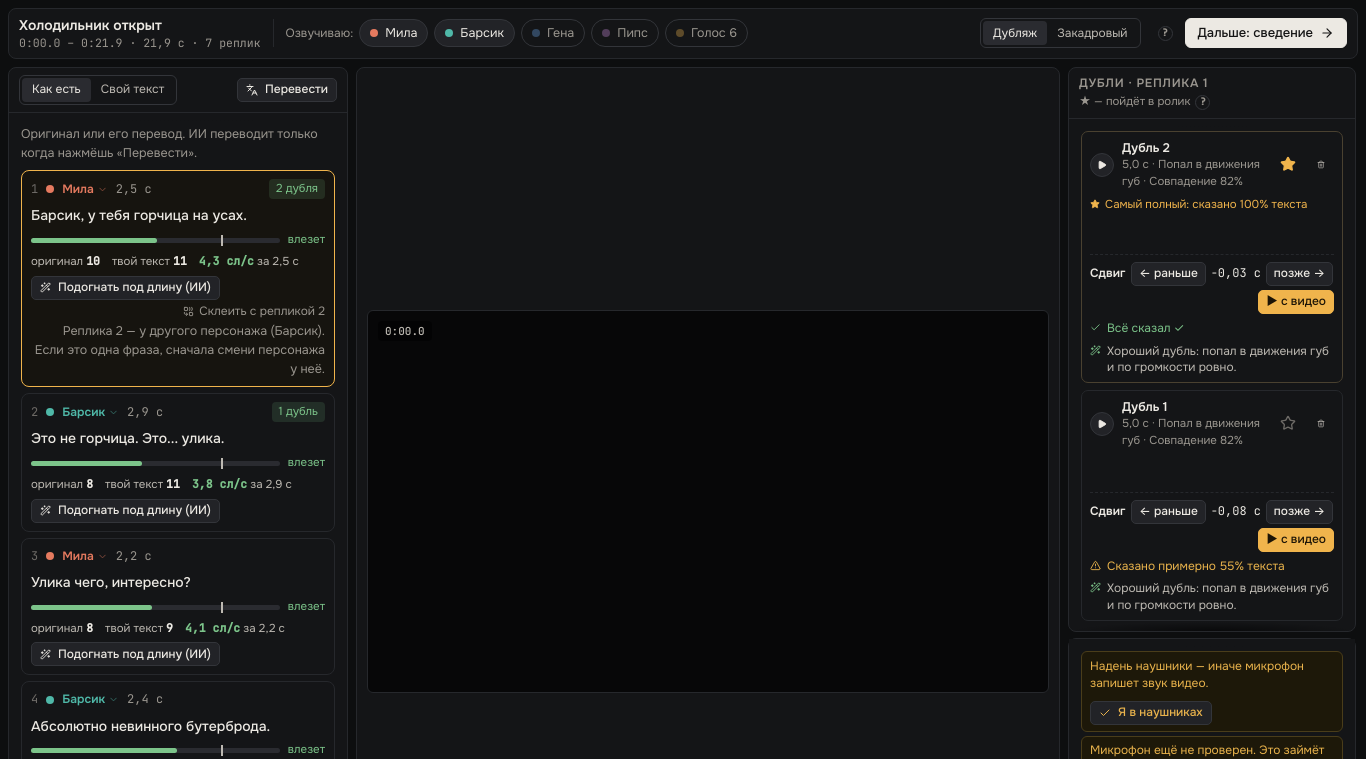
Scenario: меню «Кто это говорит?» › клик по пункту меняет персонажа — вместе с дублями; меню закрывается
Click the button with aria-label "Персонаж реплики 1" at (85, 190), box [58, 180, 112, 199]
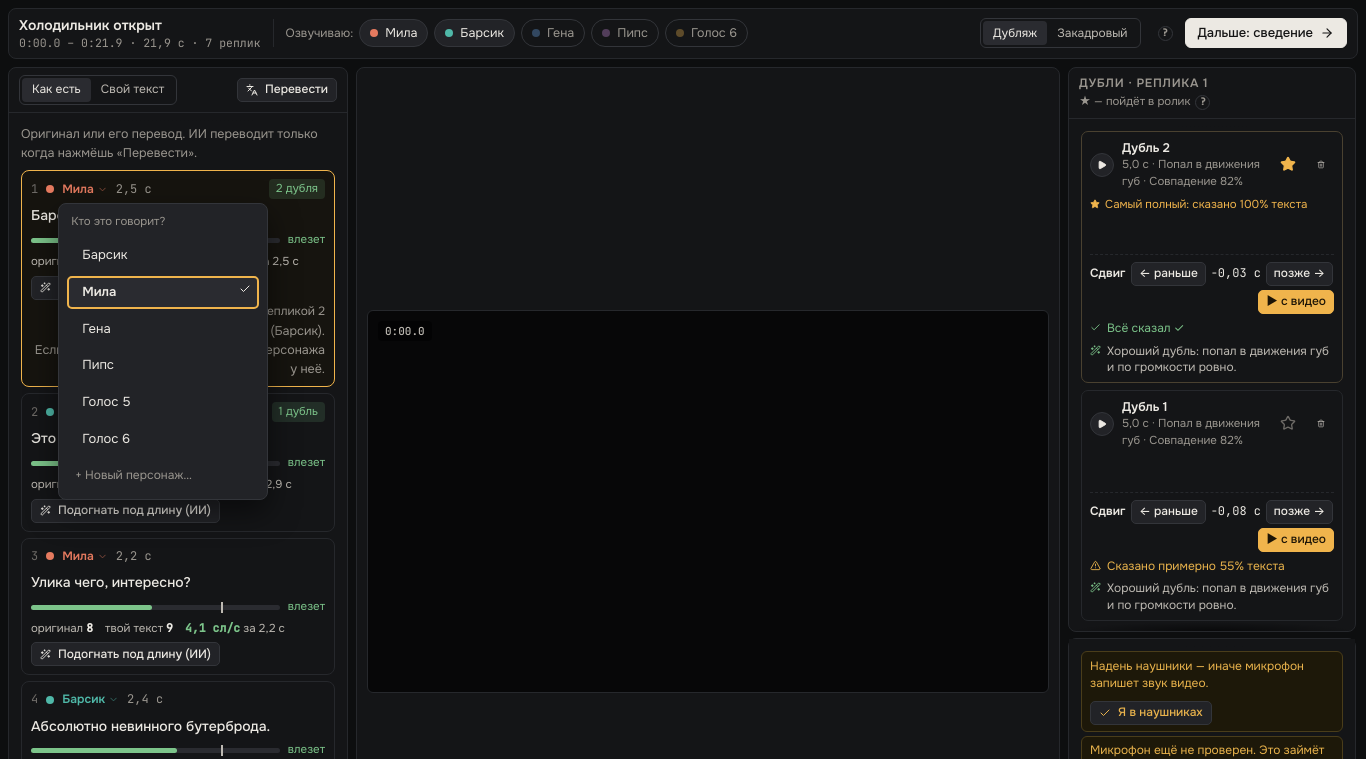
Click the menu item "Барсик" at (163, 255), box [67, 239, 259, 272]
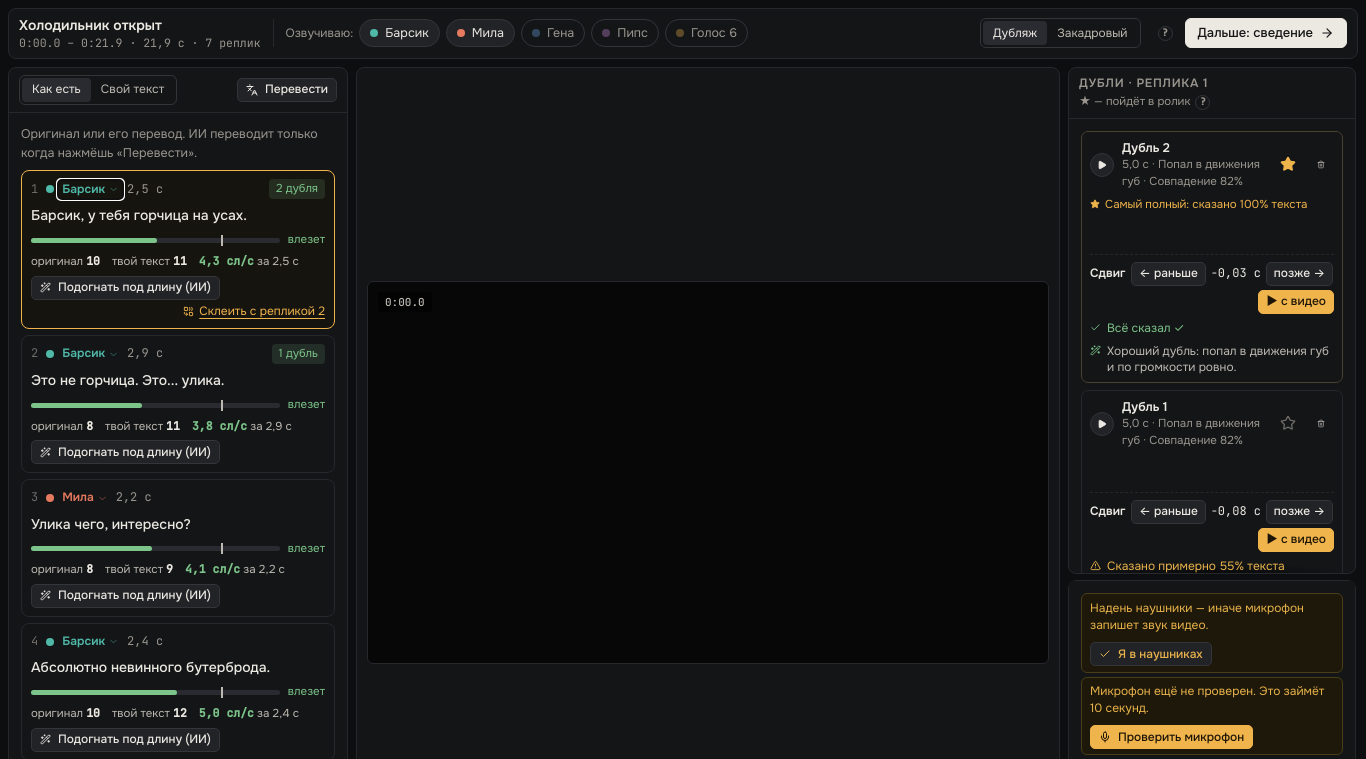
Now the menu is gone
